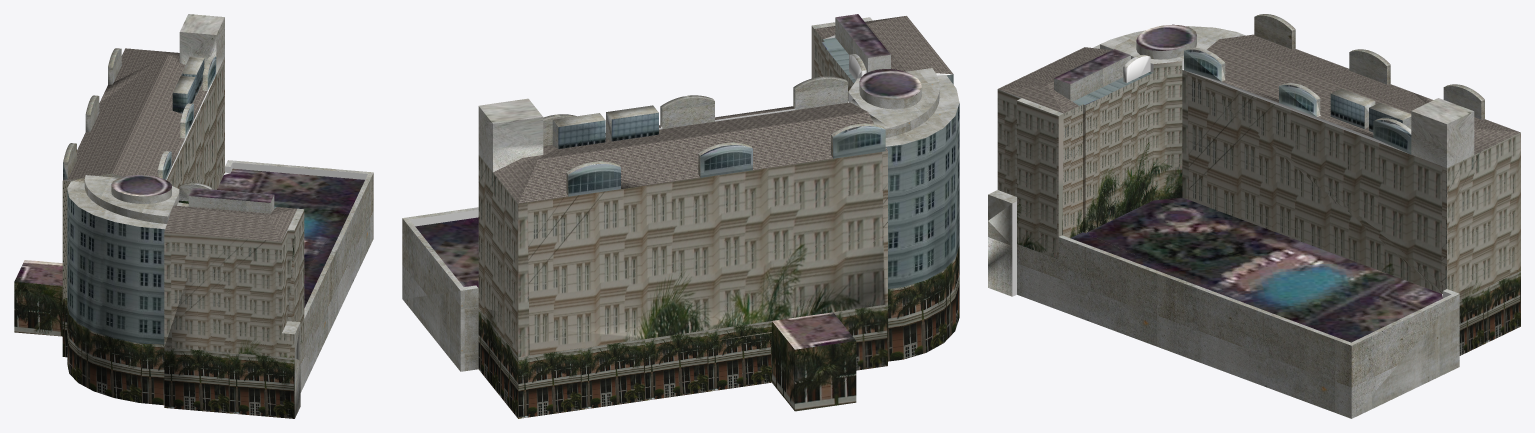
Rendered from hotel fix.fbx.
3 views of the same model, side by side, from view 1: azimuth 30°, elevation 25°; view 2: azimuth 150°, elevation 25°; view 3: azimuth 270°, elevation 25° (orthographic). The views are drawn at different scales.
Parts seen in each view (by area): view 1: Mesh1_Pack_Hyatt1_Model, Mesh4_Pack_Hyatt1_Model, Mesh3_Pack_Hyatt1_Model; view 2: Mesh1_Pack_Hyatt1_Model, Mesh3_Pack_Hyatt1_Model, Mesh4_Pack_Hyatt1_Model; view 3: Mesh1_Pack_Hyatt1_Model, Mesh4_Pack_Hyatt1_Model, Mesh3_Pack_Hyatt1_Model.
Boxes of the visible parts, x1,y1,x2,y2 form: Mesh1_Pack_Hyatt1_Model: (14, 14, 373, 418); Mesh4_Pack_Hyatt1_Model: (172, 76, 195, 113); Mesh3_Pack_Hyatt1_Model: (181, 56, 204, 95); Mesh1_Pack_Hyatt1_Model: (402, 14, 959, 418); Mesh3_Pack_Hyatt1_Model: (552, 113, 605, 148); Mesh4_Pack_Hyatt1_Model: (606, 105, 658, 141); Mesh1_Pack_Hyatt1_Model: (988, 14, 1520, 418); Mesh4_Pack_Hyatt1_Model: (1330, 88, 1375, 129); Mesh3_Pack_Hyatt1_Model: (1369, 102, 1411, 132).
Size of the model in its own units: 9463 by 5284 by 10723.
Materials: 16 (15 with a texture image).
